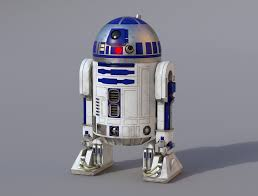r2d2: (70, 14, 184, 184)
